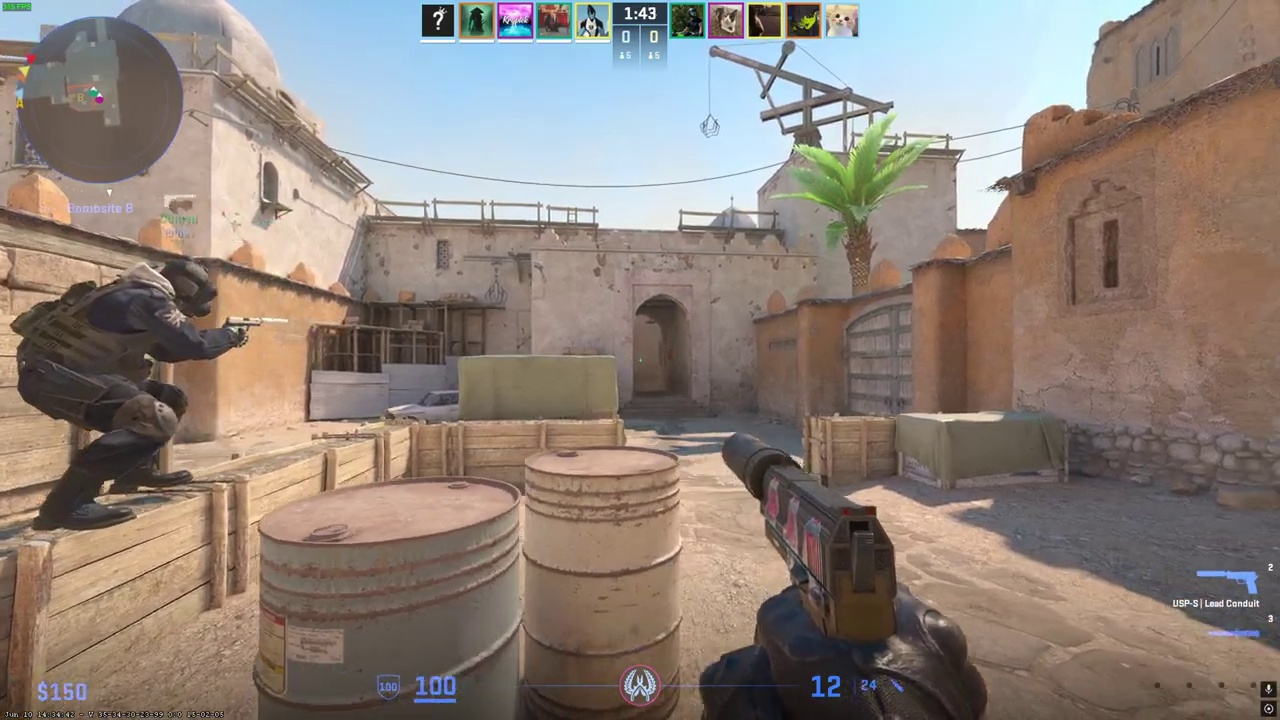CT: (26, 257, 219, 531)
